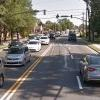Tree: (81, 2, 100, 38)
